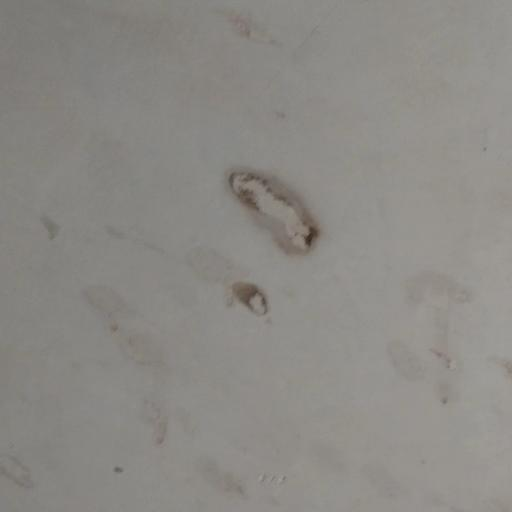stain: (19, 191, 191, 491), (194, 146, 318, 341), (390, 252, 512, 417), (188, 435, 286, 512), (212, 6, 284, 53)
